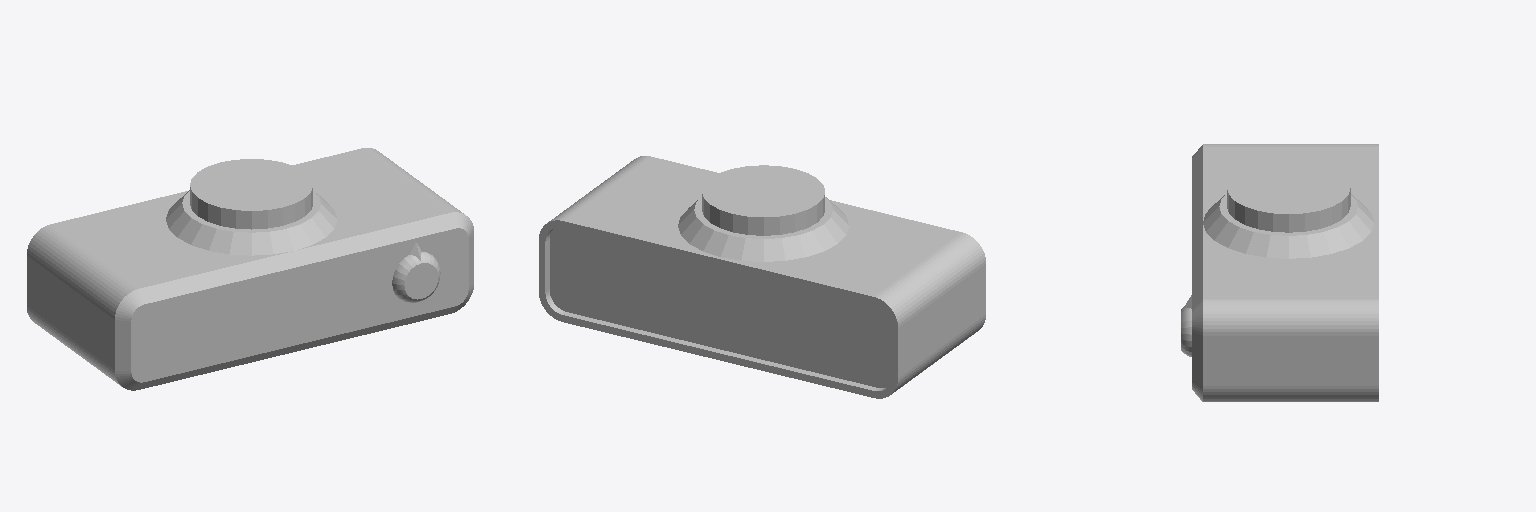
The model's file is model_scale.obj.
3 views of the same model, side by side, from view 1: azimuth 30°, elevation 25°; view 2: azimuth 150°, elevation 25°; view 3: azimuth 270°, elevation 25° (orthographic).
Visible parts, largest first — view 1: mesh19_mesh19-geometry, mesh22_mesh22-geometry; view 2: mesh19_mesh19-geometry, mesh22_mesh22-geometry; view 3: mesh19_mesh19-geometry, mesh22_mesh22-geometry.
Part boxes in pixels (bbox=[...]): mesh19_mesh19-geometry: bbox=[27, 148, 473, 390]; mesh22_mesh22-geometry: bbox=[166, 159, 336, 255]; mesh19_mesh19-geometry: bbox=[539, 156, 985, 398]; mesh22_mesh22-geometry: bbox=[678, 165, 848, 261]; mesh19_mesh19-geometry: bbox=[1181, 144, 1378, 401]; mesh22_mesh22-geometry: bbox=[1203, 162, 1374, 258].
Bounding box in the file's own units: 0.1428 × 0.0515 × 0.0683.